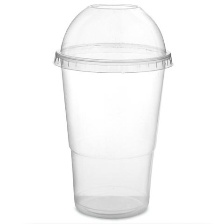glass: (48, 0, 181, 224)
